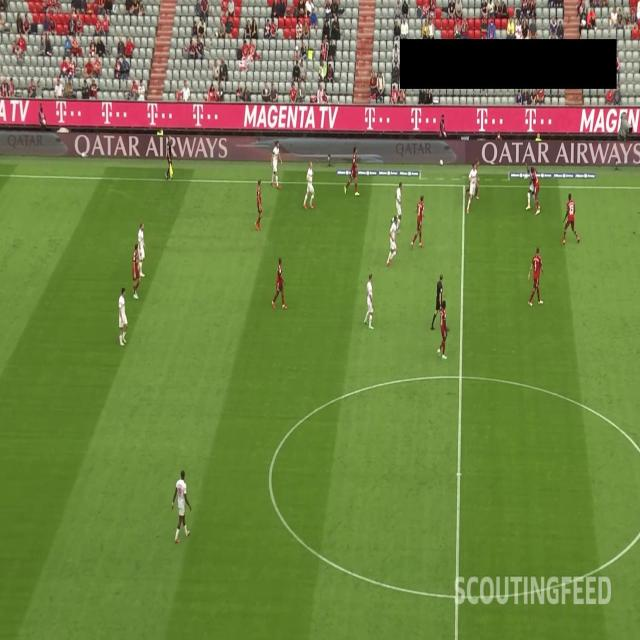ball: (524, 170, 530, 184)
player: (171, 466, 192, 544), (560, 190, 580, 247), (527, 246, 545, 306), (342, 142, 360, 201), (434, 299, 451, 360), (272, 252, 288, 310), (411, 193, 426, 251), (114, 285, 128, 347), (464, 155, 480, 204), (269, 140, 284, 191), (253, 175, 266, 231), (130, 239, 142, 299), (364, 273, 376, 331), (524, 166, 539, 212), (136, 221, 148, 278), (303, 160, 316, 212), (386, 210, 398, 266), (466, 160, 476, 214), (394, 178, 403, 236), (532, 166, 542, 218)
referee: (431, 272, 448, 332), (164, 133, 174, 179)
